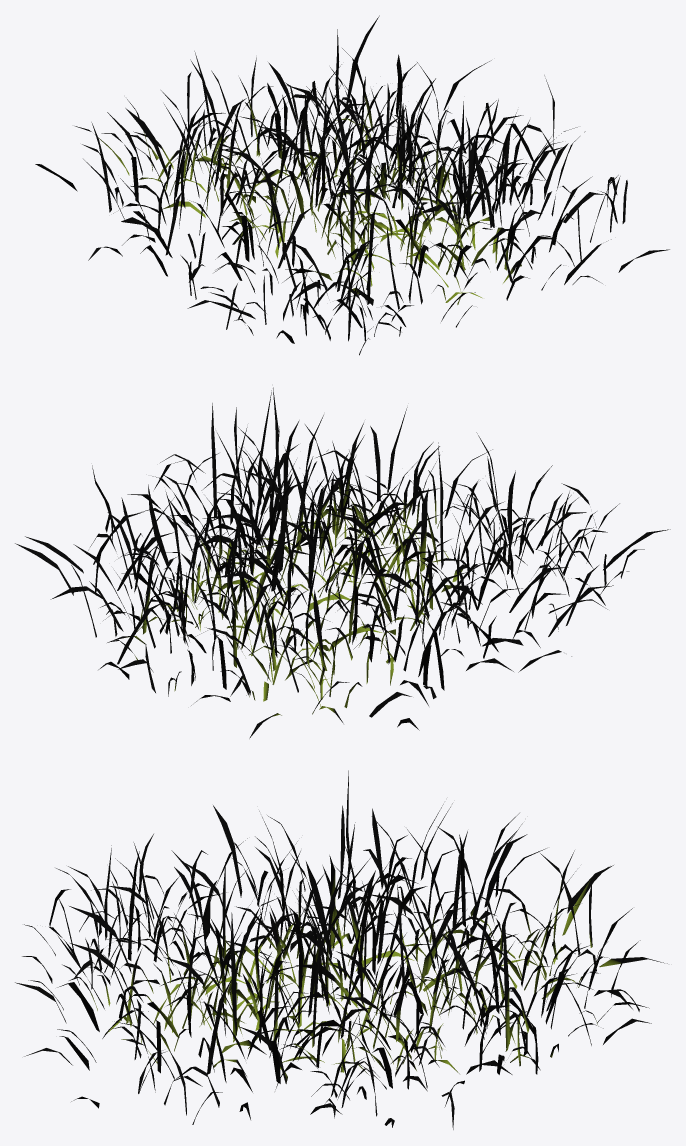
Rendered from grass.fbx.
3 renders of one model, top to bottom at view 1: azimuth 30°, elevation 25°; view 2: azimuth 150°, elevation 25°; view 3: azimuth 270°, elevation 25°, orthographic. The views are drawn at different scales.
Parts seen in each view (by area): view 1: Grass_Basic_A_spring-summer; view 2: Grass_Basic_A_spring-summer; view 3: Grass_Basic_A_spring-summer.
Part boxes in pixels (x1,y1,x2,y2): Grass_Basic_A_spring-summer: (35, 15, 669, 355); Grass_Basic_A_spring-summer: (15, 387, 670, 738); Grass_Basic_A_spring-summer: (15, 770, 667, 1129).
Size of the model in its own units: 74.2 by 22.23 by 73.44.
